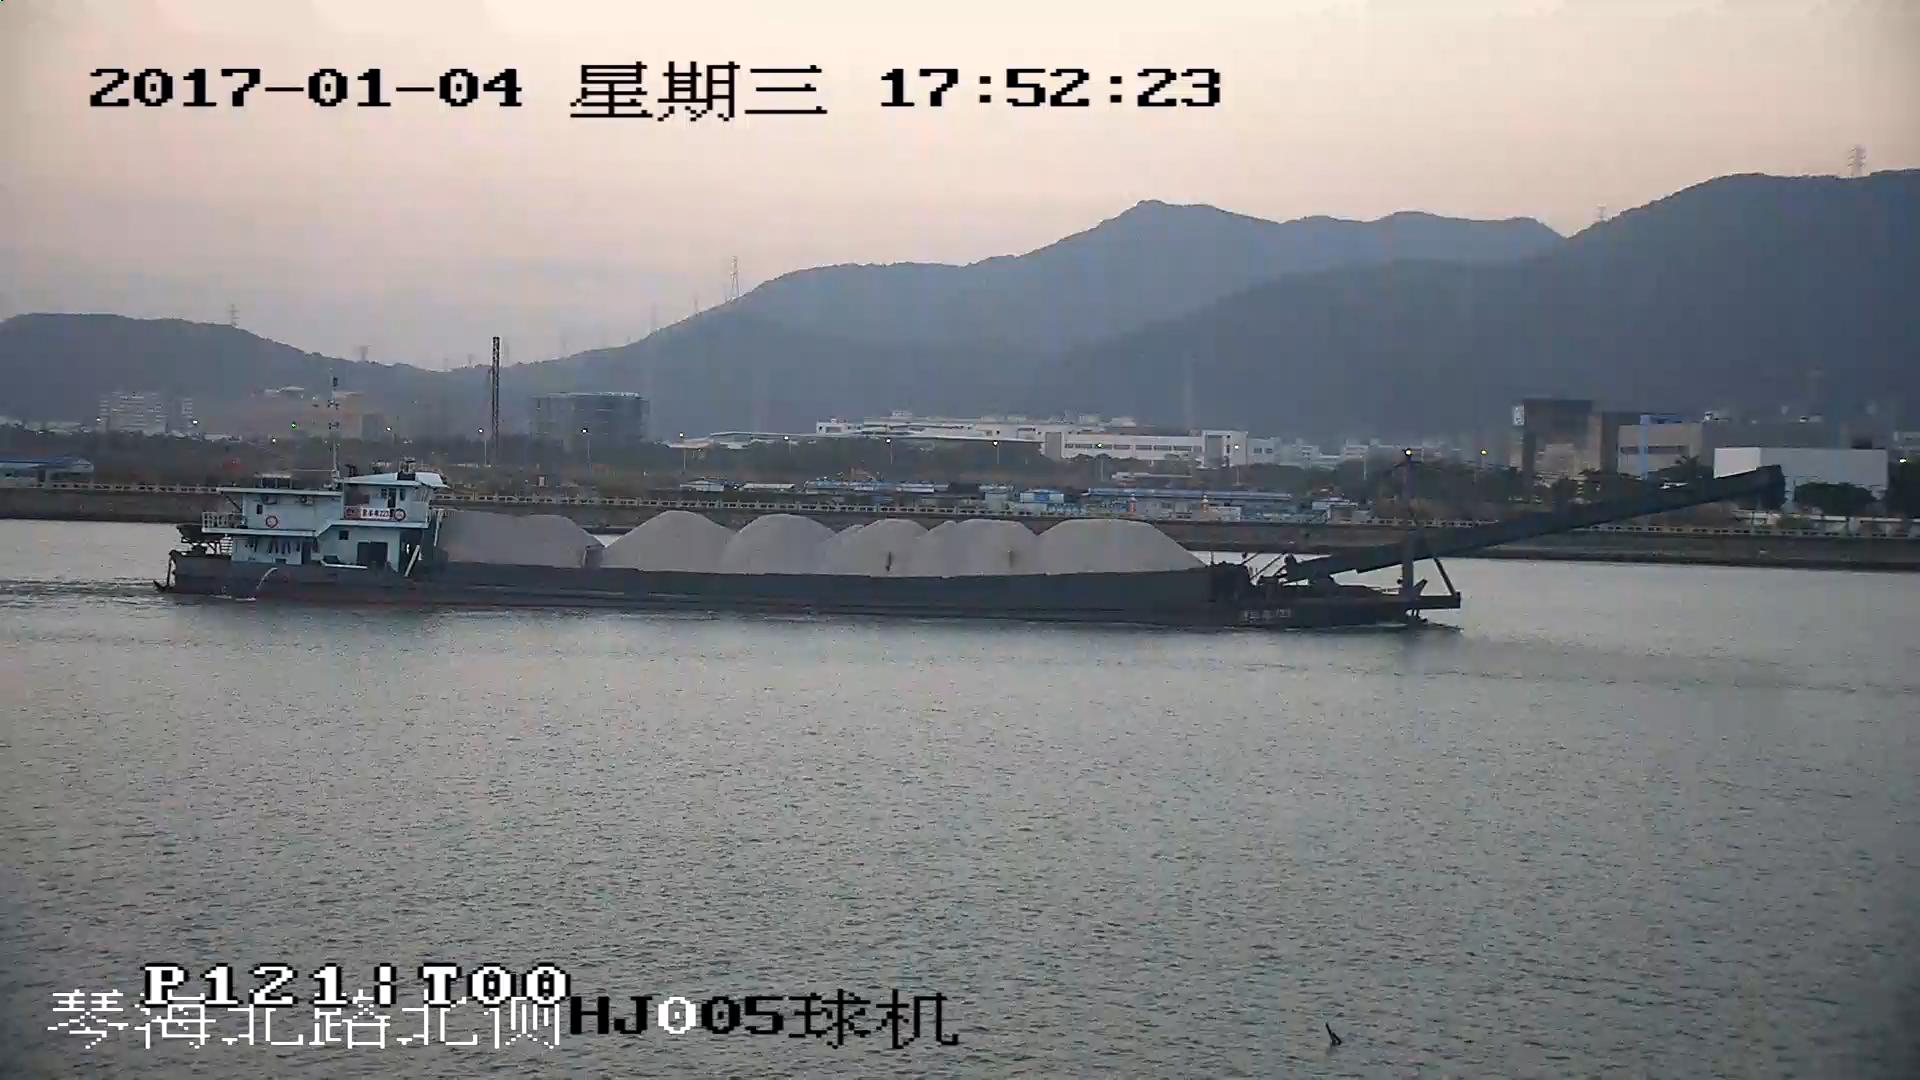ore carrier: (172, 469, 1779, 624)
